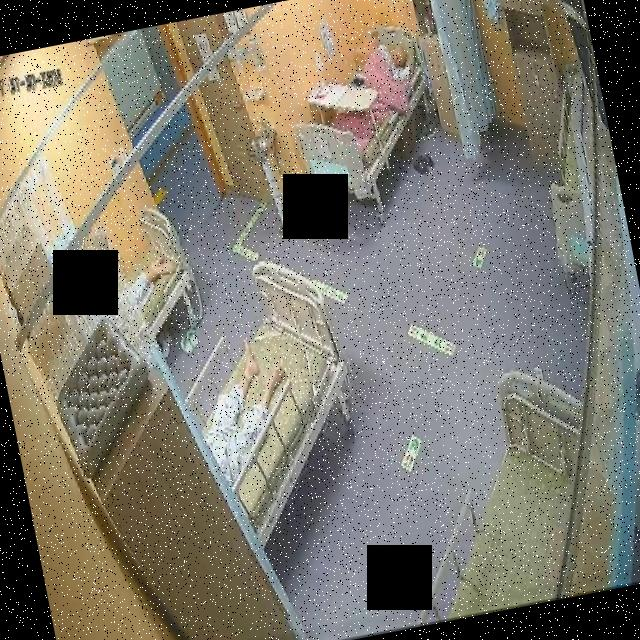bed: (372, 356, 618, 628), (172, 252, 375, 548), (280, 22, 447, 208), (115, 202, 203, 340)
lie: (184, 331, 306, 489), (326, 31, 424, 130)
patient: (186, 332, 304, 489), (372, 33, 416, 90)
